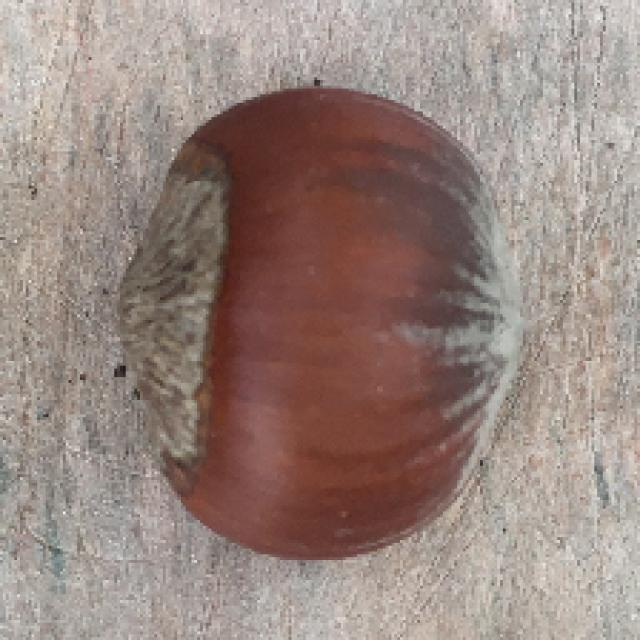damagedHazelnut: (99, 81, 531, 569)
